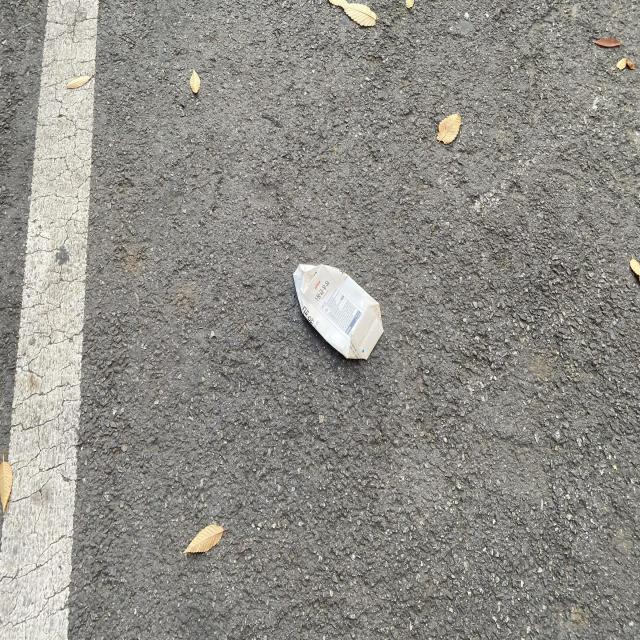paperpack: (293, 264, 384, 359)
